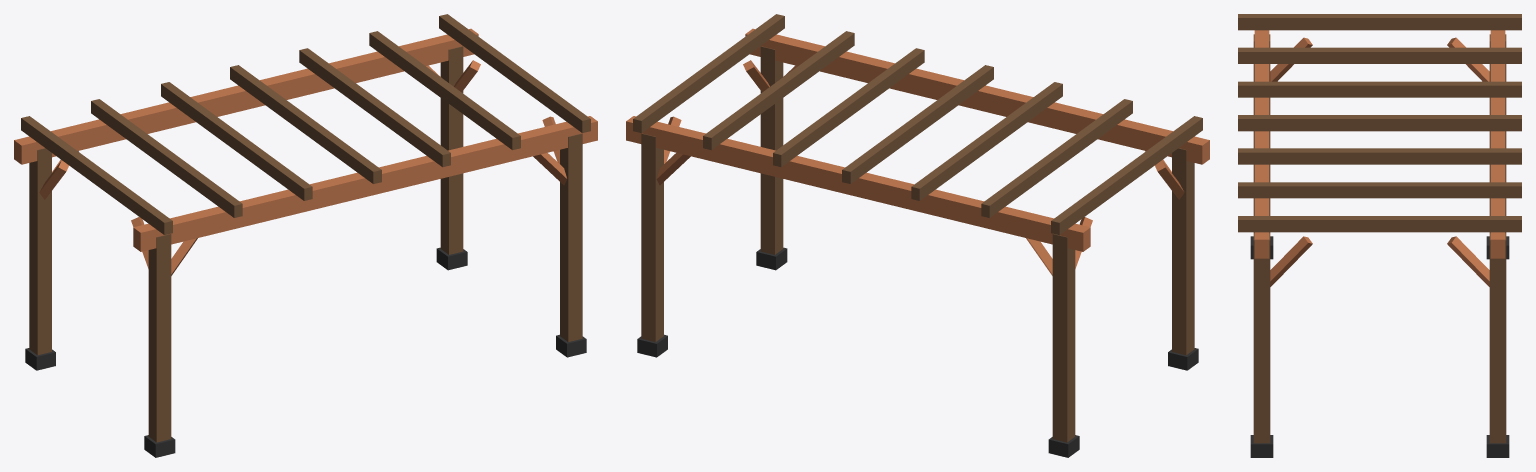
Rendered from Pergola.obj.
3 renders of one model, left to right at view 1: azimuth 30°, elevation 25°; view 2: azimuth 150°, elevation 25°; view 3: azimuth 270°, elevation 25°, orthographic.
Visible parts, largest first — view 1: Pergola; view 2: Pergola; view 3: Pergola.
Part boxes in pixels (x1,y1,x2,y2): Pergola: [14, 14, 597, 457]; Pergola: [626, 14, 1209, 457]; Pergola: [1238, 14, 1521, 457].
Size of the model in its own units: 7 by 3.5 by 3.8.
1 material, 1 textured.
